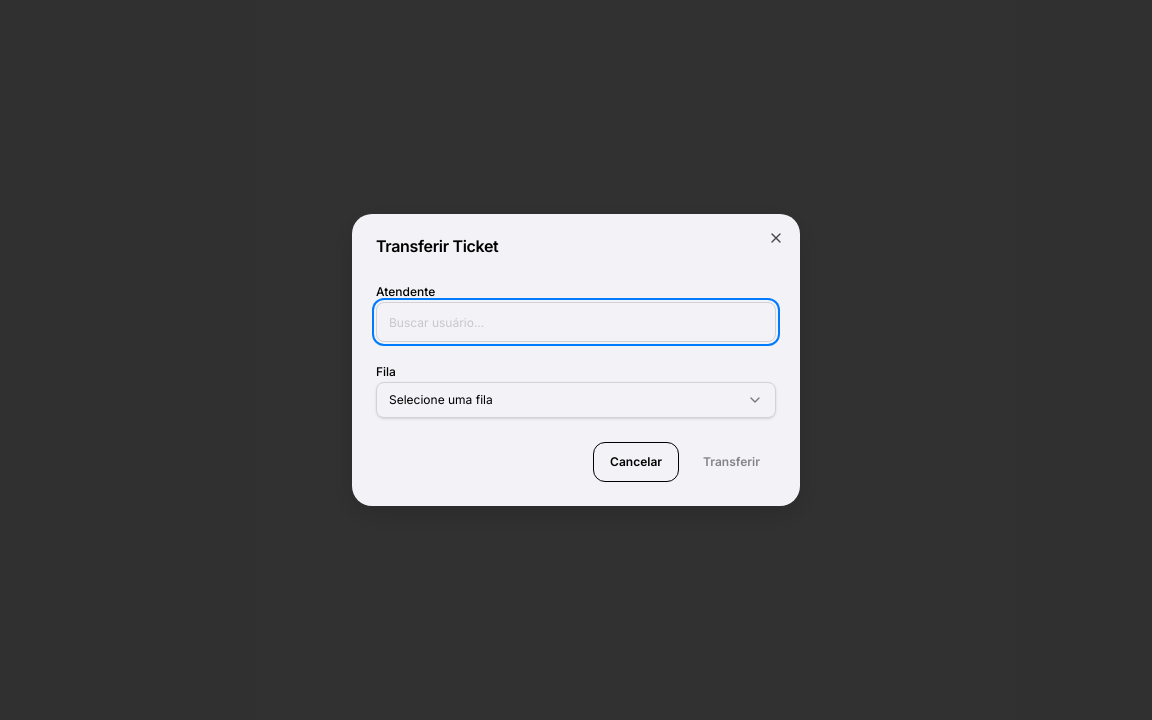
Scenario: TransferTicketModal › selecionar usuário da lista preenche o campo e oculta a lista
Type "mar" into the field with placeholder "Buscar usuário...".
click(576, 322); type("mar")  # box [376,302,776,342]
Wait 600 ms
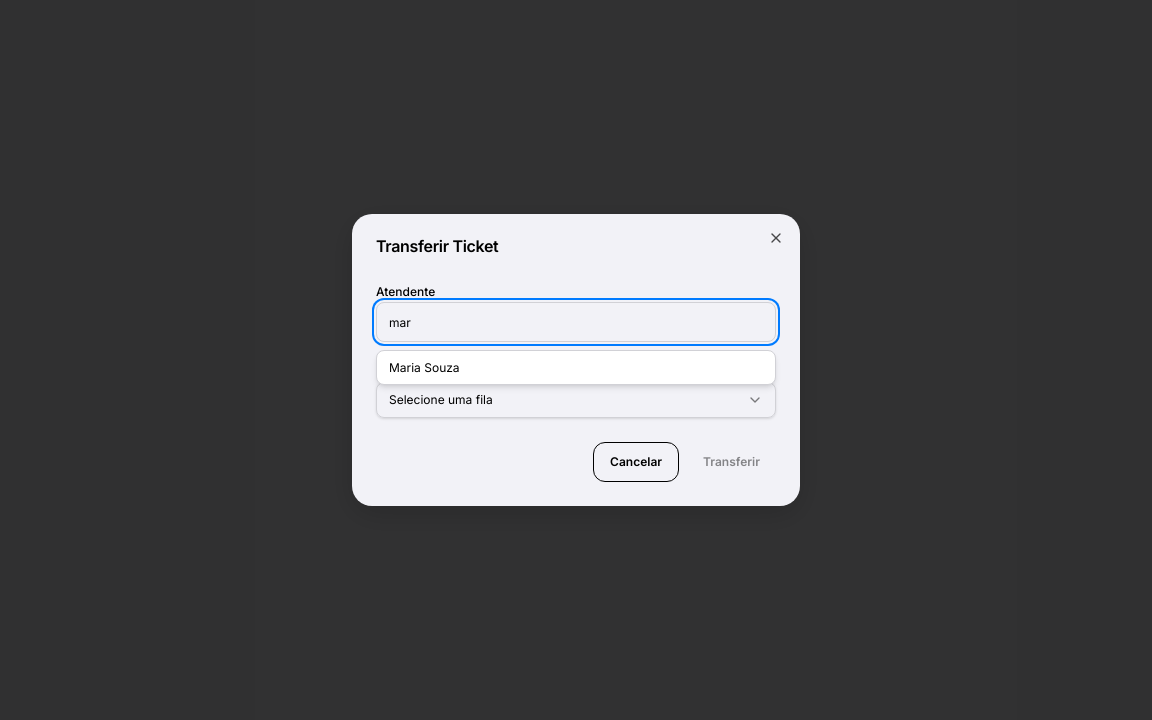
Expected: the text "Maria Souza" is shown
Click the text "Maria Souza".
click(424, 368)  # box [389,360,460,375]
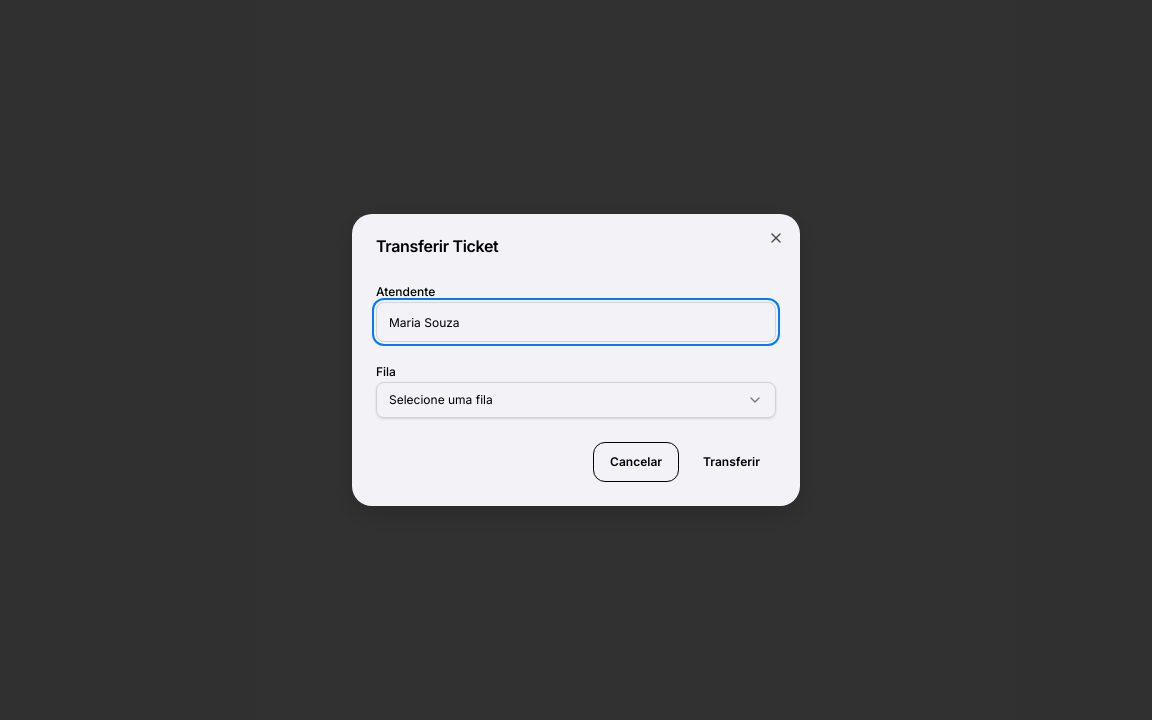
Expected: the field with placeholder "Buscar usuário..." holds "Maria Souza", [376,302,776,342]
